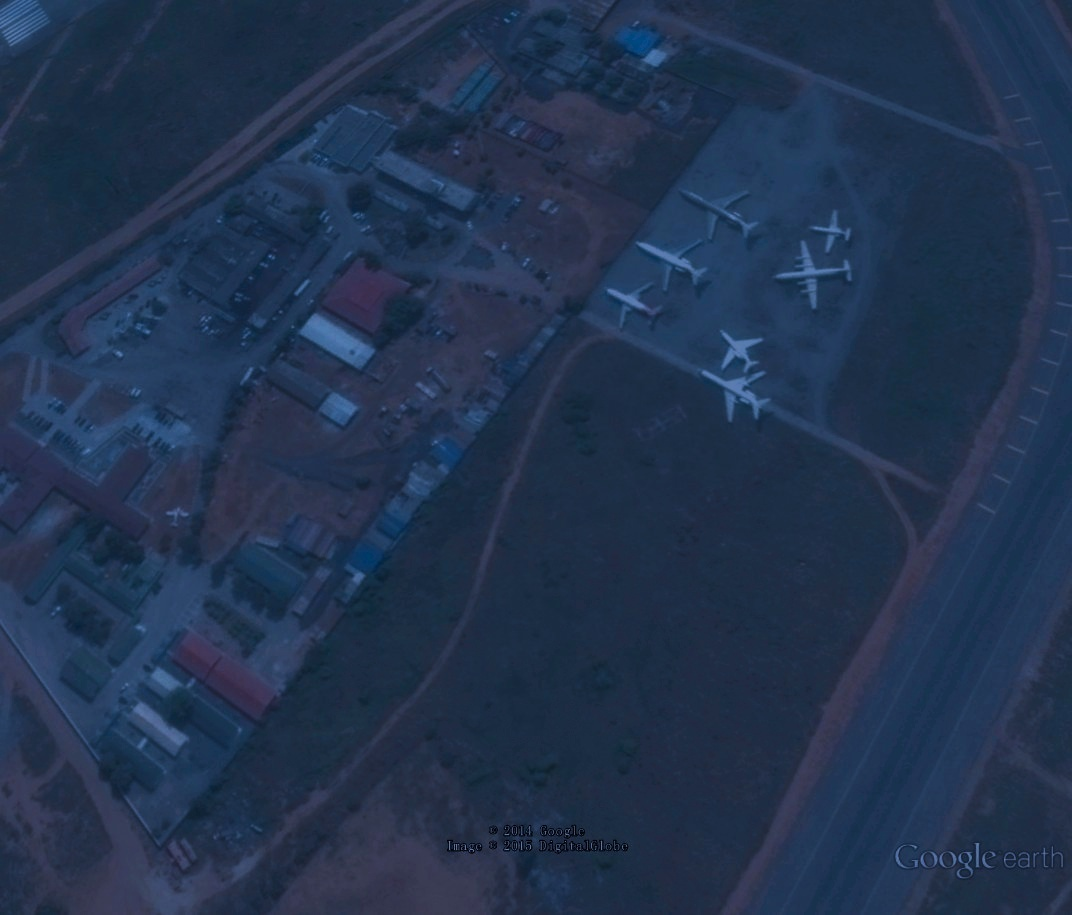aircraft: (771, 235, 859, 313), (694, 361, 775, 430), (628, 232, 714, 295), (675, 186, 762, 244), (601, 280, 669, 336), (802, 205, 858, 258), (715, 327, 769, 376)
